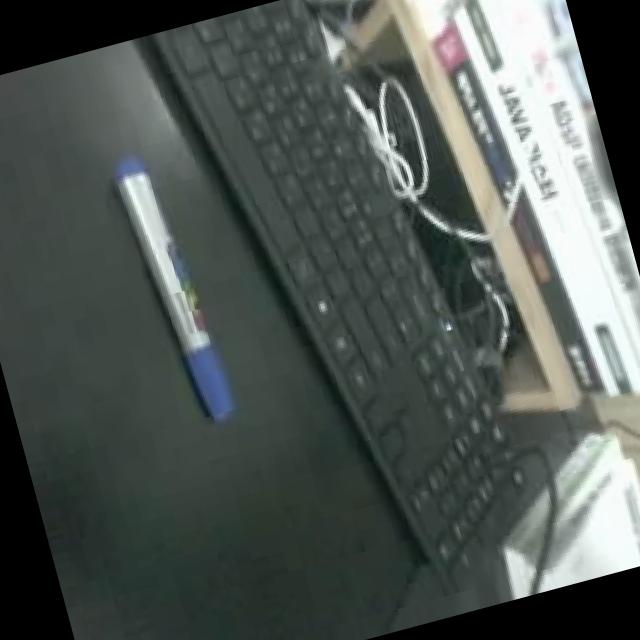board-marker: (105, 141, 250, 447), (114, 156, 233, 420)
